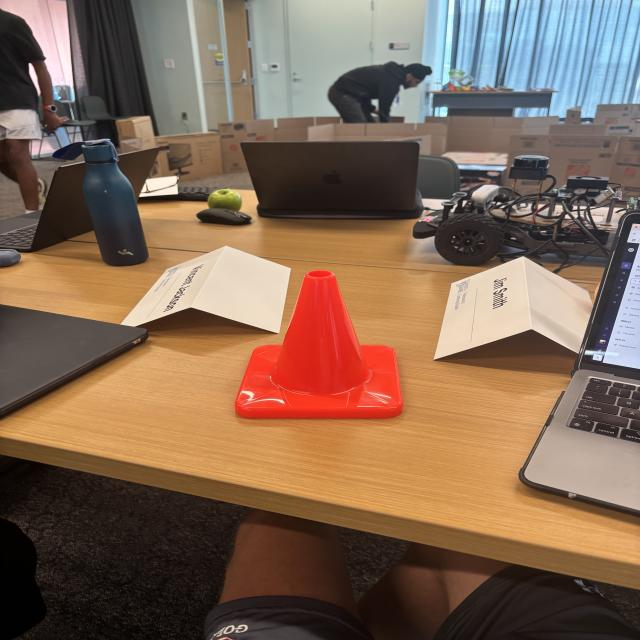Traffic Cone: (222, 270, 406, 421)
